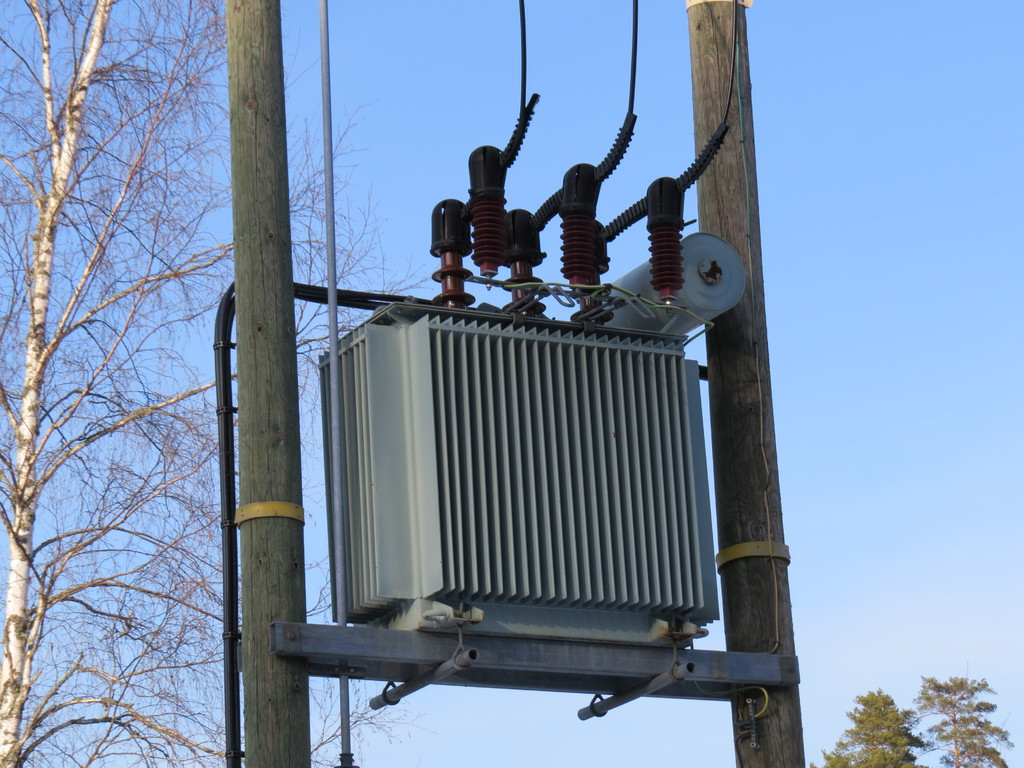Tree: (0, 0, 392, 767), (911, 670, 1010, 767), (817, 689, 912, 767)
